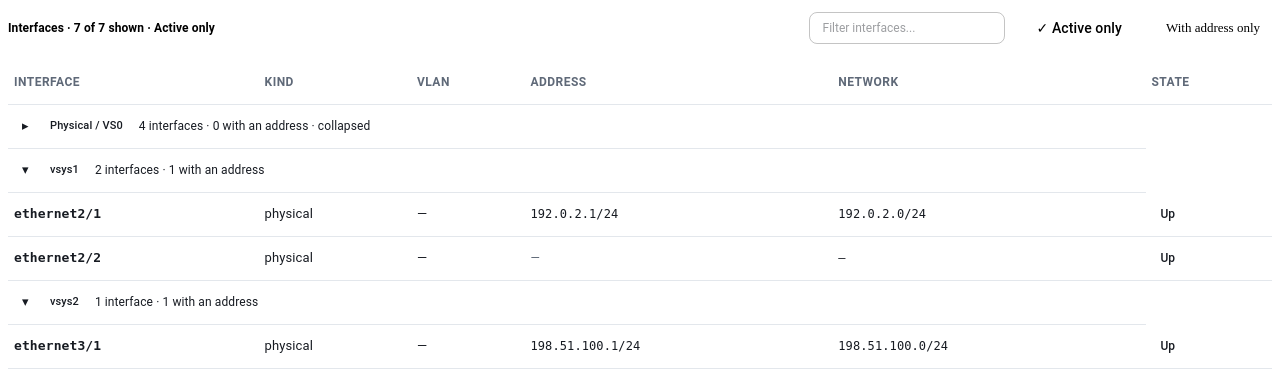
Test case: the With address only chip › is off by default, narrows the rows to those with an address, and drops groups left empty
This screenshot has width=1280, height=386.
Check: the text "Interfaces · 7 of 7 shown · Active only" is shown, box [8, 20, 215, 36]
Click the button "With address only".
click(1213, 28)  # box [1154, 12, 1272, 44]
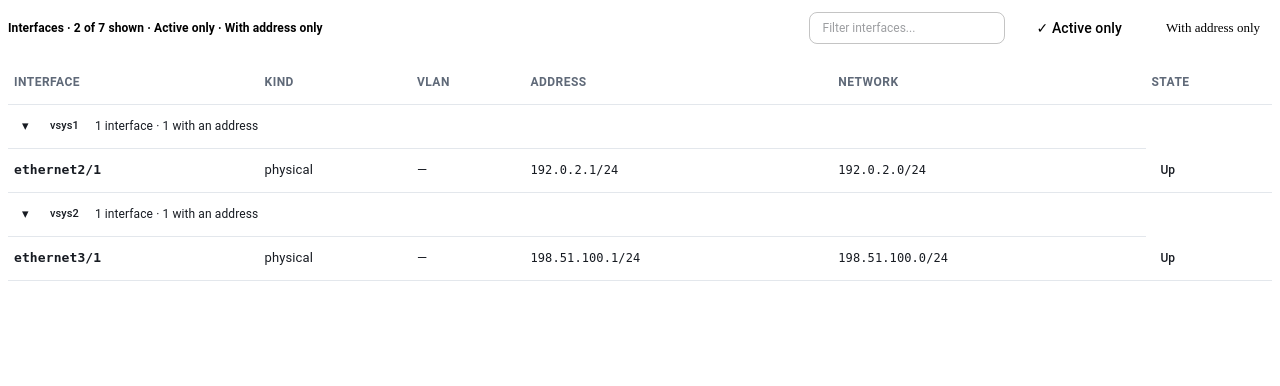
Check: the text "ethernet2/1" is shown, box [8, 148, 259, 192]
Check: the text "Interfaces · 2 of 7 shown · Active only · With address only" is shown, box [8, 20, 323, 36]
Check: the text "ethernet2/2" is gone
